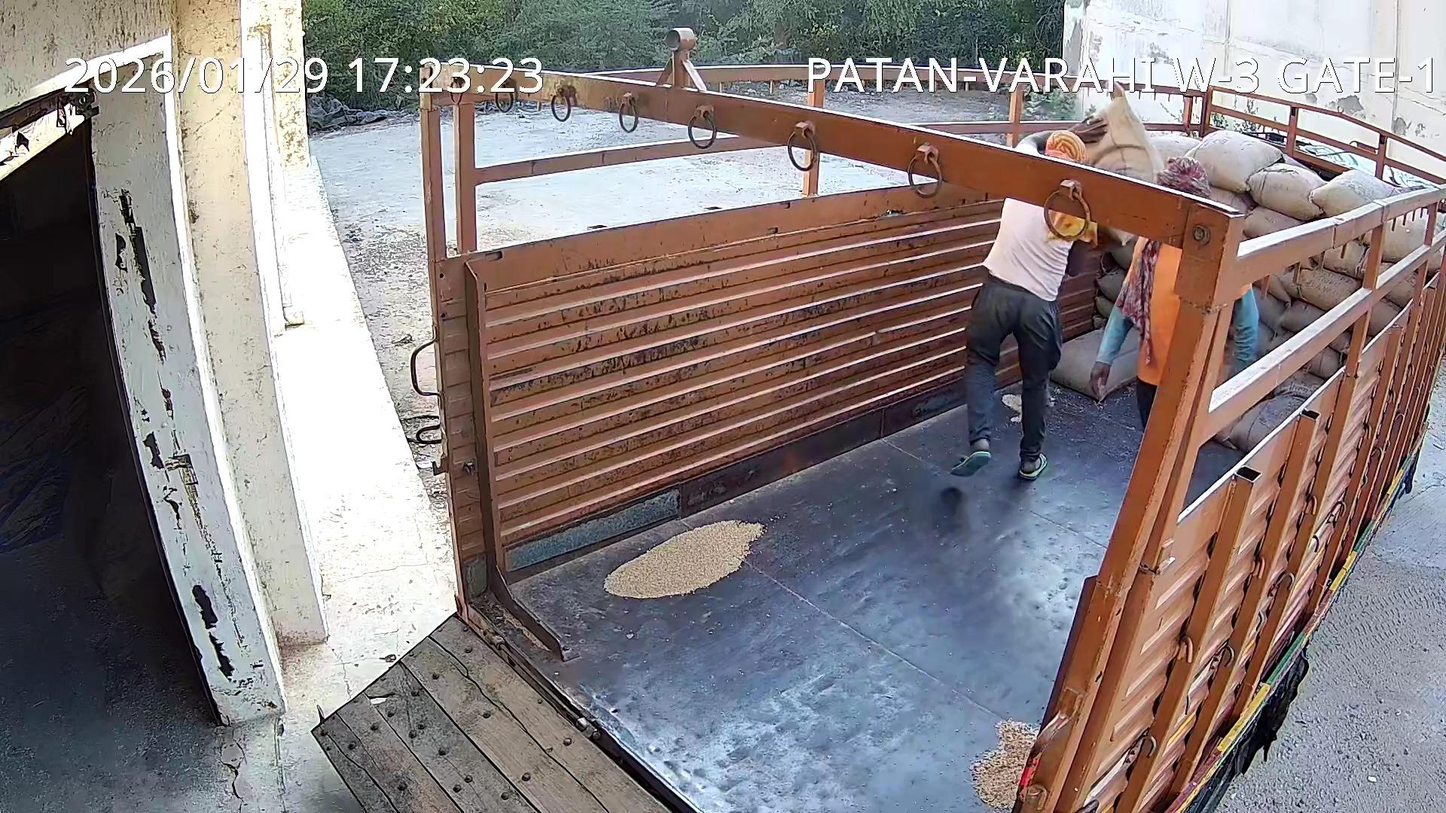Sack: (1088, 90, 1163, 181)
